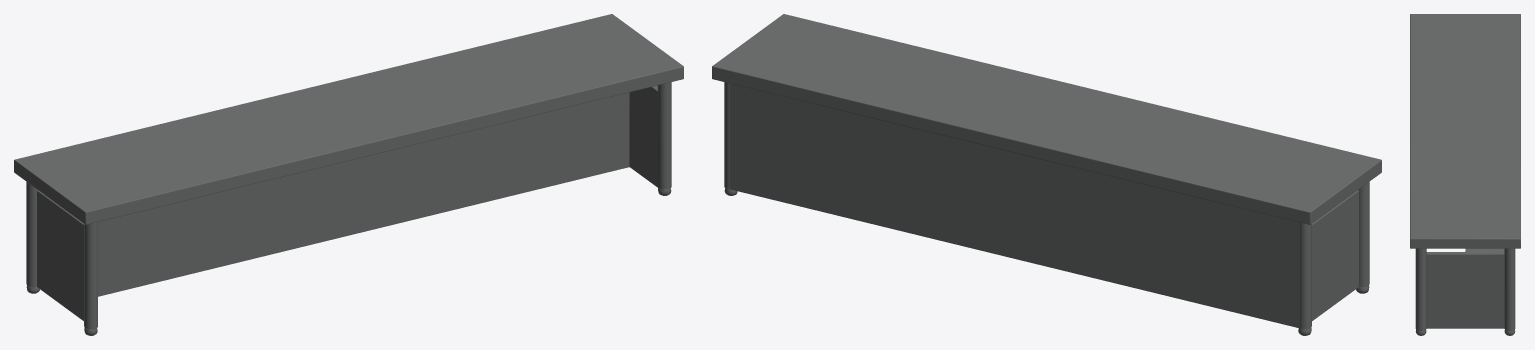
File: DevLabDeskBench.fbx
The picture shows the model from 3 angles, left to right: view 1: azimuth 30°, elevation 25°; view 2: azimuth 150°, elevation 25°; view 3: azimuth 270°, elevation 25°; orthographic projection. The views are drawn at different scales.
Visible parts, largest first — view 1: DevLabDeskBench; view 2: DevLabDeskBench; view 3: DevLabDeskBench.
Part boxes in pixels (x1,y1,x2,y2): DevLabDeskBench: (14, 14, 683, 335); DevLabDeskBench: (712, 14, 1381, 335); DevLabDeskBench: (1410, 14, 1520, 335).
Bounding box in the file's own units: 240 × 50 × 50.
Materials: 1 (1 with a texture image).
